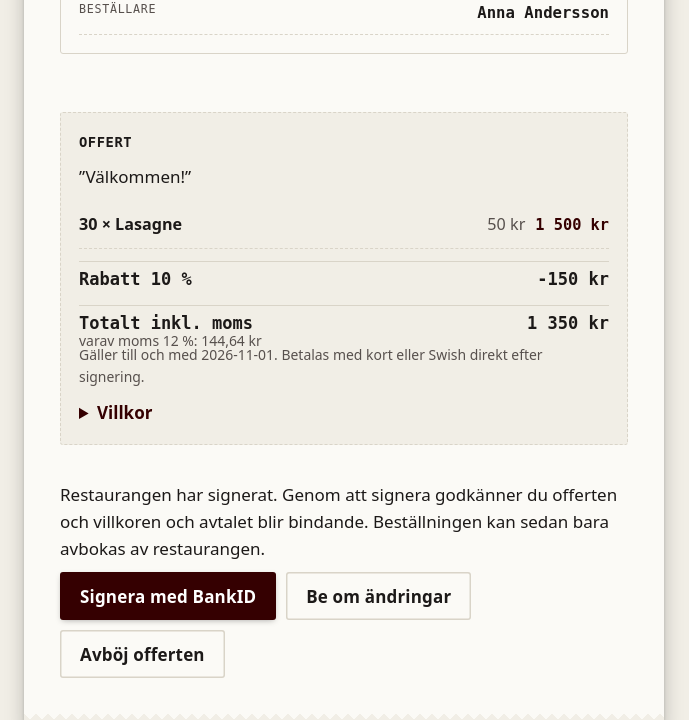
CateringRequestPage › asks for changes
This screenshot has width=689, height=720.
(page scrolled)
Click the button "Be om ändringar": (379, 596) [286,572,471,620]
(page scrolled)
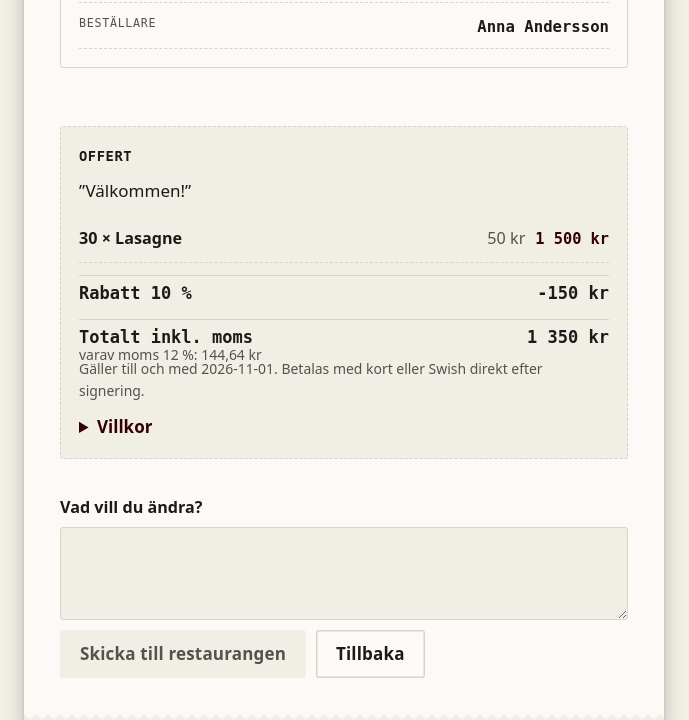
In the text box: (344, 573) [60,527,628,620], type "40 portioner"
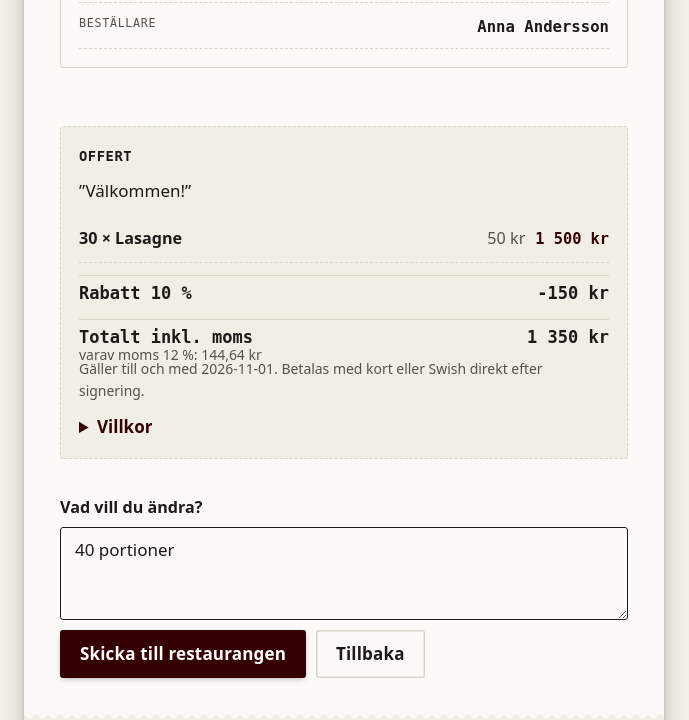
Click the button "Skicka till restaurangen": (183, 654) [60,630,306,678]
(page scrolled)
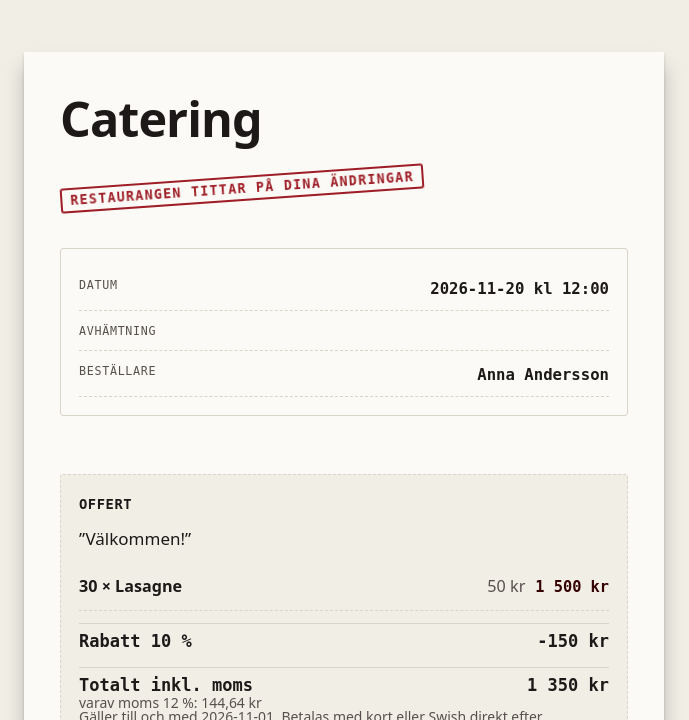
Check: the text "Restaurangen tittar på dina ändringar" is shown, box [60,163,425,213]
